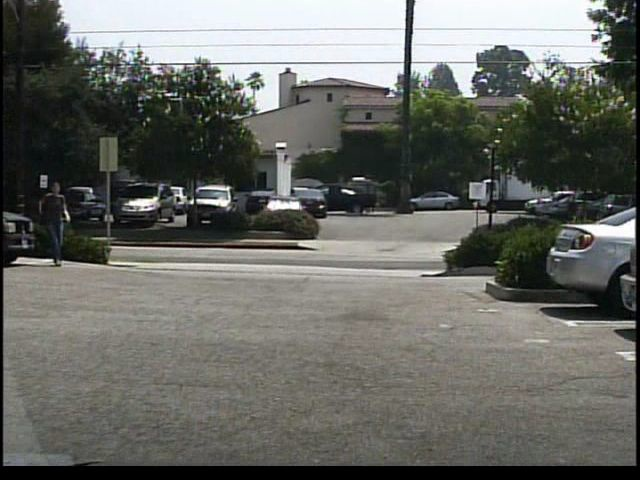person: (39, 180, 76, 269)
